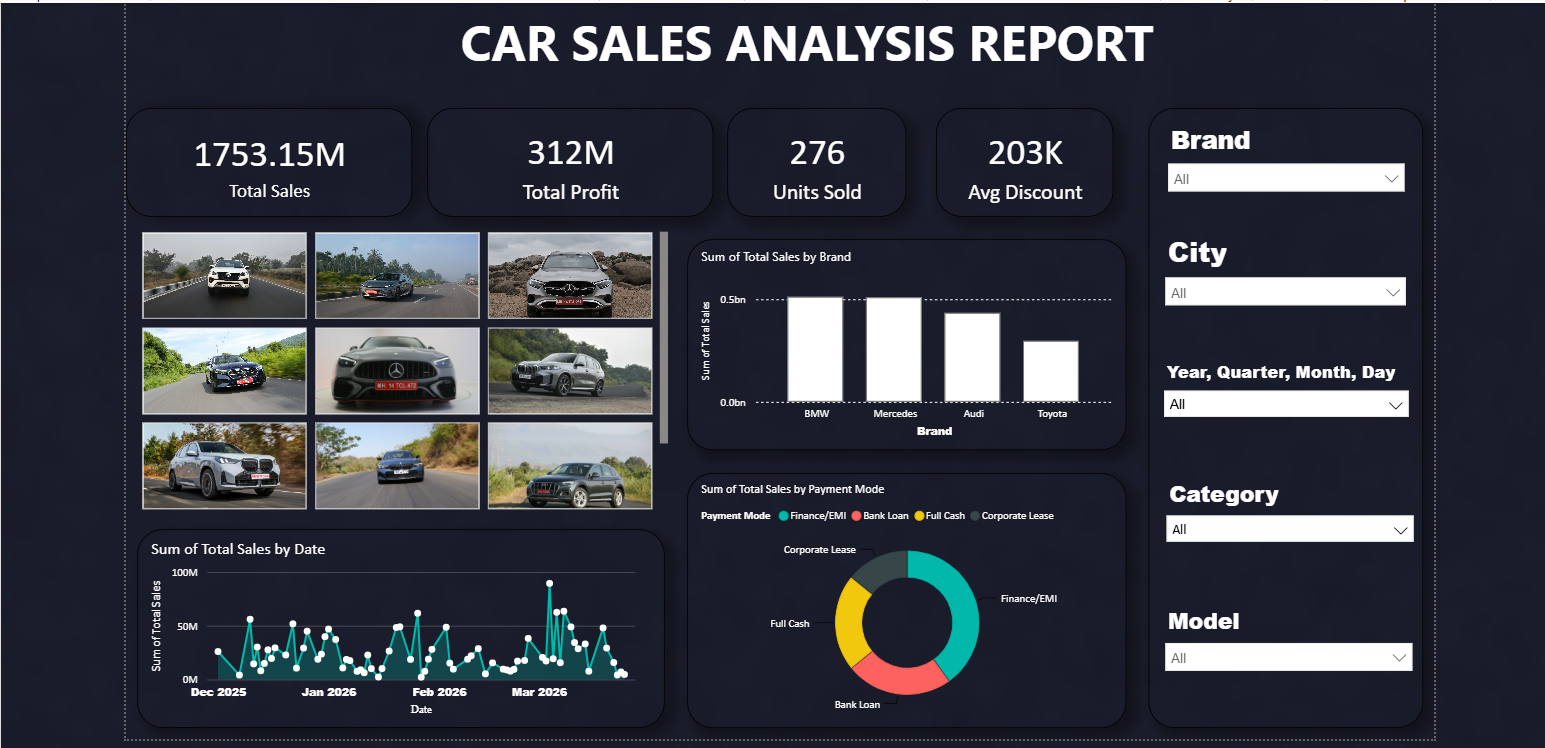

The dashboard page shown, as its layout file describes it:
{"tool":"powerbi","page":{"name":"Page 1","canvas":[1280,720],"ordinal":0},"visuals":[{"type":"card","fields":{"Values":["Sum(car_sales_full.Total Sales)"]},"box":[0,102.7,280,106.4],"z":0},{"type":"card","fields":{"Values":["Sum(car_sales_full.Profit)"]},"box":[294.7,102.7,280,106.4],"z":1000},{"type":"card","fields":{"Values":["Sum(car_sales_full.Units Sold)"]},"box":[588.2,102.7,174.9,106.4],"z":2000},{"type":"card","fields":{"Values":["Avg(car_sales_full.Discount)"]},"box":[792.4,102.7,173.6,106.4],"z":3000},{"type":"clusteredColumnChart","fields":{"Category":["car_sales_full.Brand"],"Y":["Sum(car_sales_full.Total Sales)"]},"box":[549.1,231.1,429.2,206.7],"z":4000},{"type":"areaChart","fields":{"Category":["car_sales_full.Date"],"Y":["Sum(car_sales_full.Total Sales)"]},"box":[11,514.8,516,194.4],"z":5000},{"type":"donutChart","fields":{"Category":["car_sales_full.Payment Mode"],"Y":["Sum(car_sales_full.Total Sales)"]},"box":[549.1,459.8,429.2,249.5],"z":6000},{"type":"slicer","fields":{"Values":["car_sales_full.Brand"]},"box":[1000.3,102.7,269,606.5],"z":7000},{"type":"slicer","fields":{"Values":["car_sales_full.City"]},"box":[1006.4,218.9,255.6,229.9],"z":8000},{"type":"slicer","fields":{"Values":["car_sales_full.Date.Variation.Date Hierarchy.Year","car_sales_full.Date.Variation.Date Hierarchy.Quarter","car_sales_full.Date.Variation.Date Hierarchy.Month","car_sales_full.Date.Variation.Date Hierarchy.Day"]},"box":[1005.2,344.8,259.2,134.5],"z":9000},{"type":"slicer","fields":{"Values":["car_sales_full.Category"]},"box":[1007.6,459.8,261.7,108.8],"z":10000},{"type":"slicer","fields":{"Values":["car_sales_full.Model"]},"box":[1006.4,584.5,261.7,95.4],"z":11000},{"type":"advancedSlicerVisual","fields":{"Values":["car_sales_full.Model Preview"]},"box":[11,218.9,524.6,282.5],"z":12000},{"type":"textbox","box":[70.9,0,1209.4,102.7],"z":13000}]}

Visuals, with their boxes on the page's 1280x720 design canvas (x1, y1, x2, y2). These are canvas units, not pixel positions in the 1545x748 screenshot, which may show the page scaled, cropped or inside an application window:
card - Sum(car_sales_full.Total Sales): l=0, t=103, r=280, b=209
card - Sum(car_sales_full.Profit): l=295, t=103, r=575, b=209
card - Sum(car_sales_full.Units Sold): l=588, t=103, r=763, b=209
card - Avg(car_sales_full.Discount): l=792, t=103, r=966, b=209
clusteredColumnChart - car_sales_full.Brand x Sum(car_sales_full.Total Sales): l=549, t=231, r=978, b=438
areaChart - car_sales_full.Date x Sum(car_sales_full.Total Sales): l=11, t=515, r=527, b=709
donutChart - car_sales_full.Payment Mode x Sum(car_sales_full.Total Sales): l=549, t=460, r=978, b=709
slicer - car_sales_full.Brand: l=1000, t=103, r=1269, b=709
slicer - car_sales_full.City: l=1006, t=219, r=1262, b=449
slicer - car_sales_full.Date.Variation.Date Hierarchy.Year x car_sales_full.Date.Variation.Date Hierarchy.Quarter: l=1005, t=345, r=1264, b=479
slicer - car_sales_full.Category: l=1008, t=460, r=1269, b=569
slicer - car_sales_full.Model: l=1006, t=584, r=1268, b=680
advancedSlicerVisual - car_sales_full.Model Preview: l=11, t=219, r=536, b=501
textbox: l=71, t=0, r=1280, b=103
